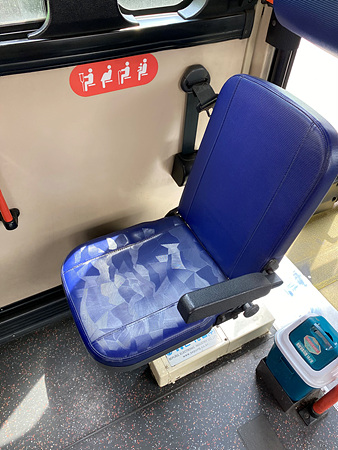seat: (61, 76, 333, 365)
